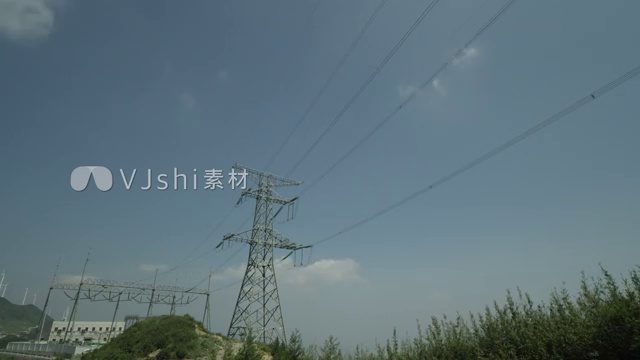tower_body: (224, 159, 309, 352)
tower_foot: (226, 298, 292, 348)
tower_head: (234, 163, 302, 207)
